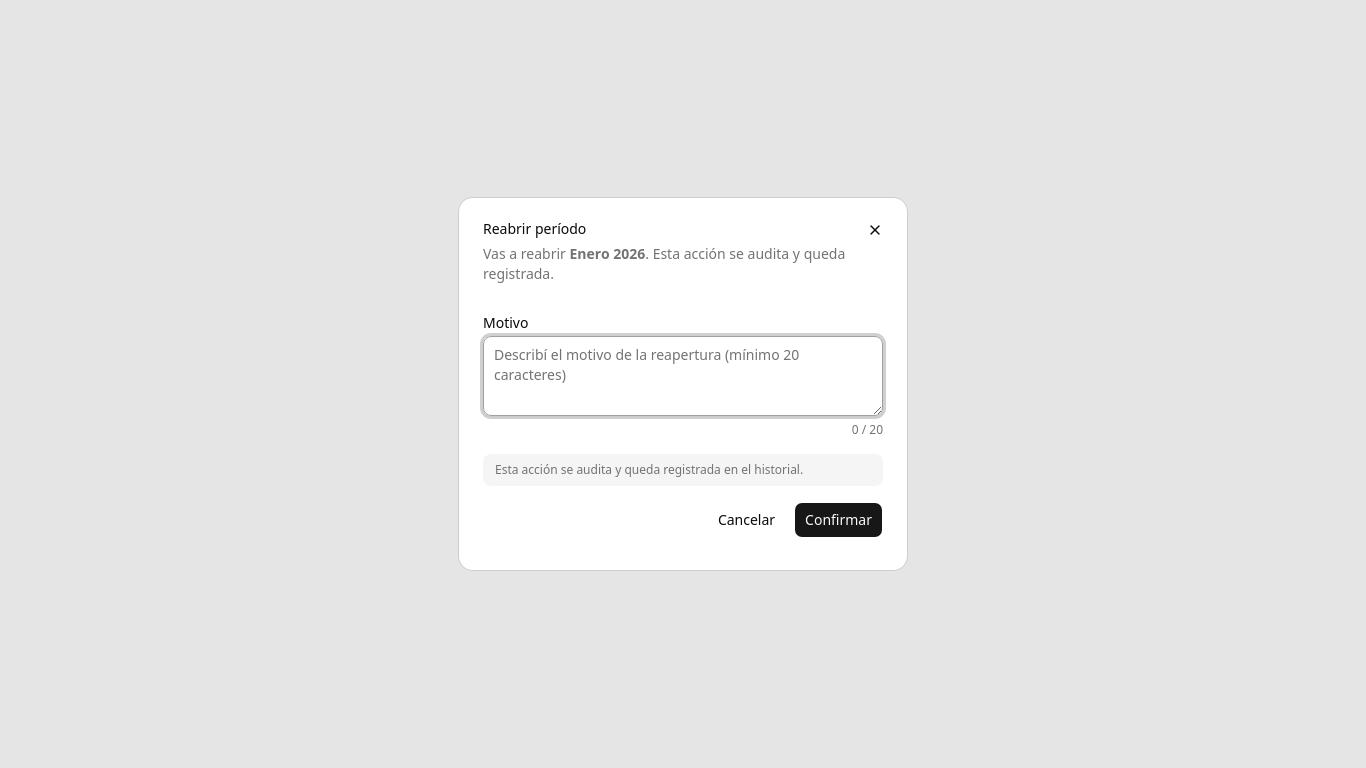
Test: ReabrirPeriodoDialog › contador de chars muestra la cantidad actual
This screenshot has width=1366, height=768.
In the text box labelled "Motivo": (683, 376) [483,336,883,416], type "Hola mundo"
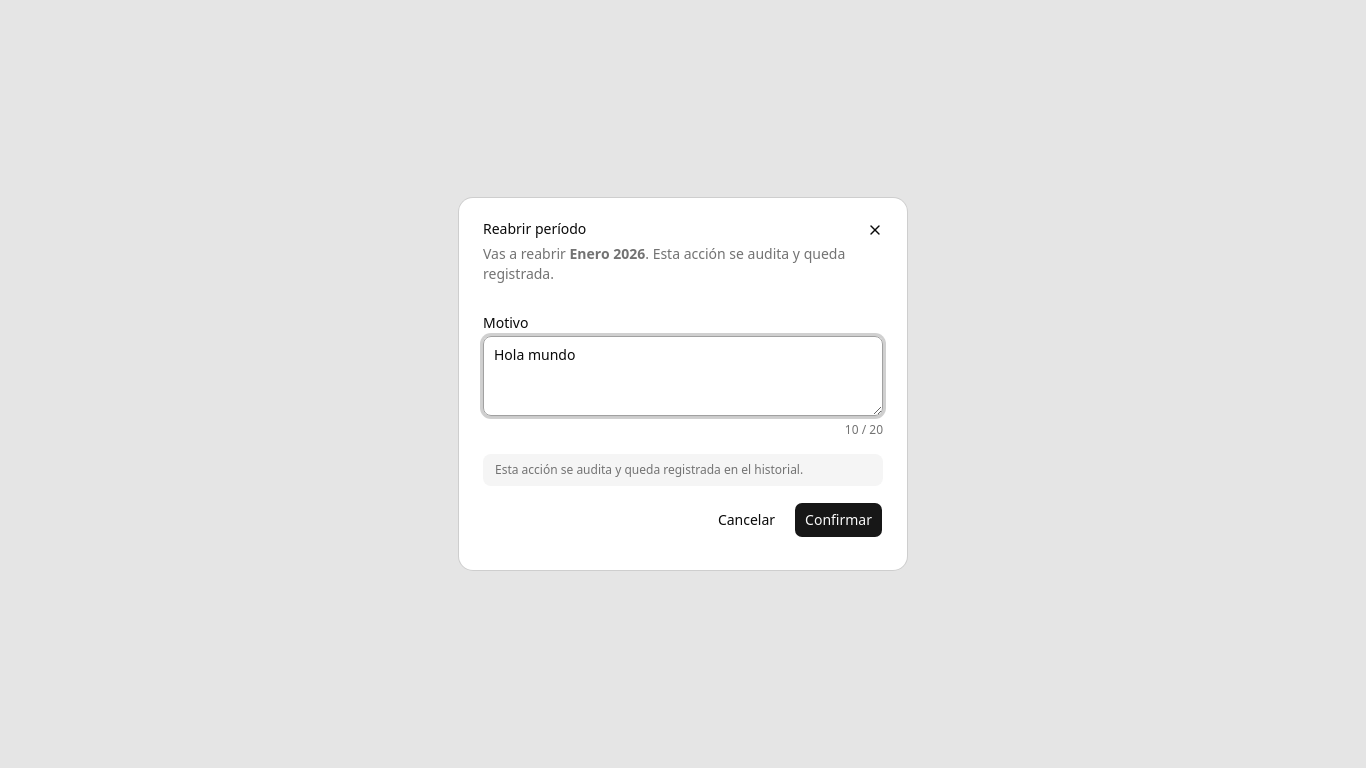
Expected: the text "10 / 20" is shown, [845,422,883,438]
